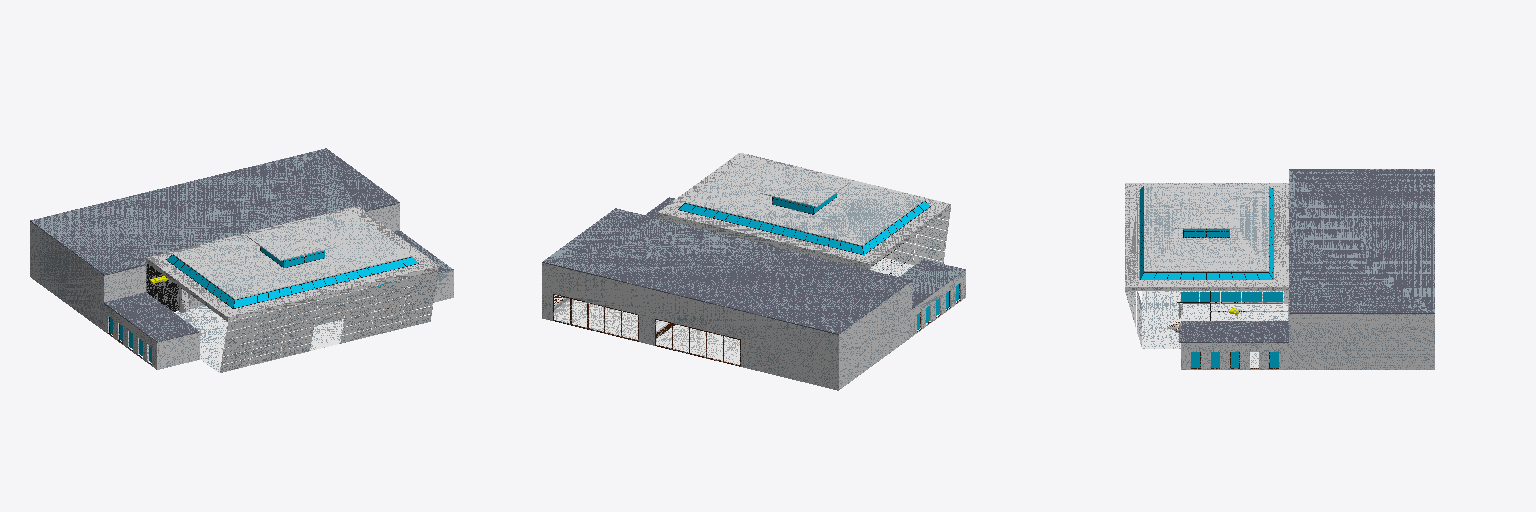
3 views of the same model, side by side, from view 1: azimuth 30°, elevation 25°; view 2: azimuth 150°, elevation 25°; view 3: azimuth 270°, elevation 25° (orthographic).
Parts seen in each view (by area): view 1: Mesh22 Model; view 2: Mesh22 Model; view 3: Mesh22 Model.
Boxes of the visible parts, <box> form: Mesh22 Model: <box>30,148,453,372</box>; Mesh22 Model: <box>542,153,965,390</box>; Mesh22 Model: <box>1125,169,1434,369</box>.
Bounding box in the file's own units: 35 × 9.45 × 31.74.
Materials: 14 (1 with a texture image).